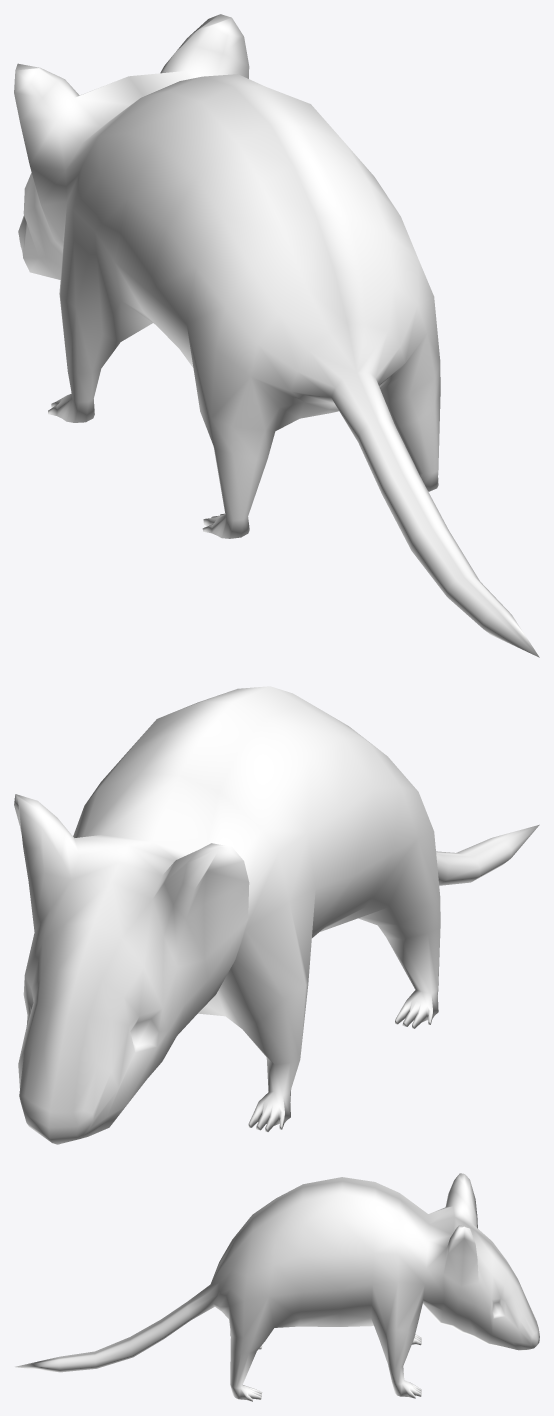
File: oRat.fbx
3 views of the same model, one above another, from view 1: azimuth 30°, elevation 25°; view 2: azimuth 150°, elevation 25°; view 3: azimuth 270°, elevation 25° (orthographic). The views are drawn at different scales.
Visible parts, largest first — view 1: Rat1; view 2: Rat1; view 3: Rat1.
Part boxes in pixels (x1,y1,x2,y2): Rat1: [14, 14, 539, 657]; Rat1: [14, 686, 539, 1144]; Rat1: [15, 1173, 539, 1401].
Size of the model in its own units: 28.29 by 39.25 by 97.98.
